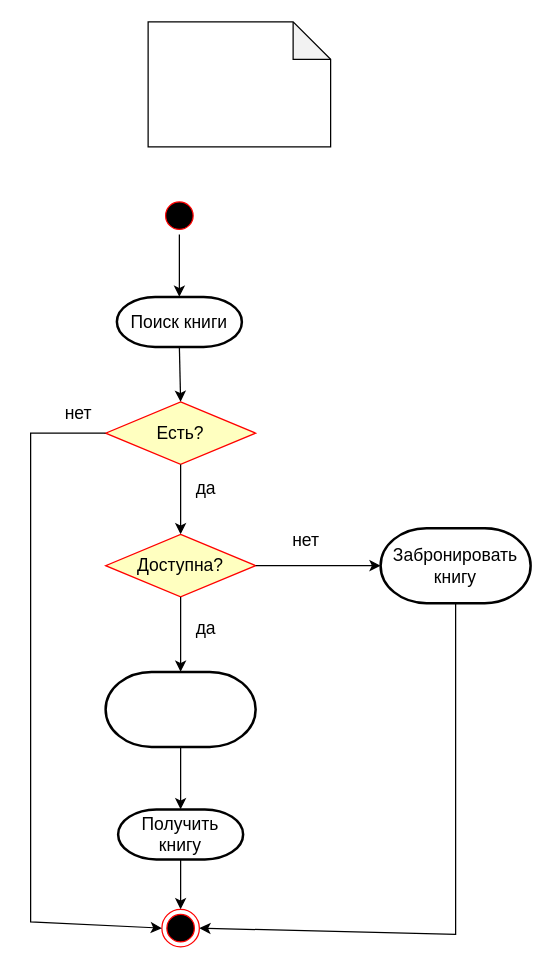
This 554x969 diagram has some shape labels left out. The centre of each missing label's shape, as x and y in pixels:
"Логика запроса книги" belongs at pixel 239 84.
"Сформировать запись в журнале" belongs at pixel 180 709.
